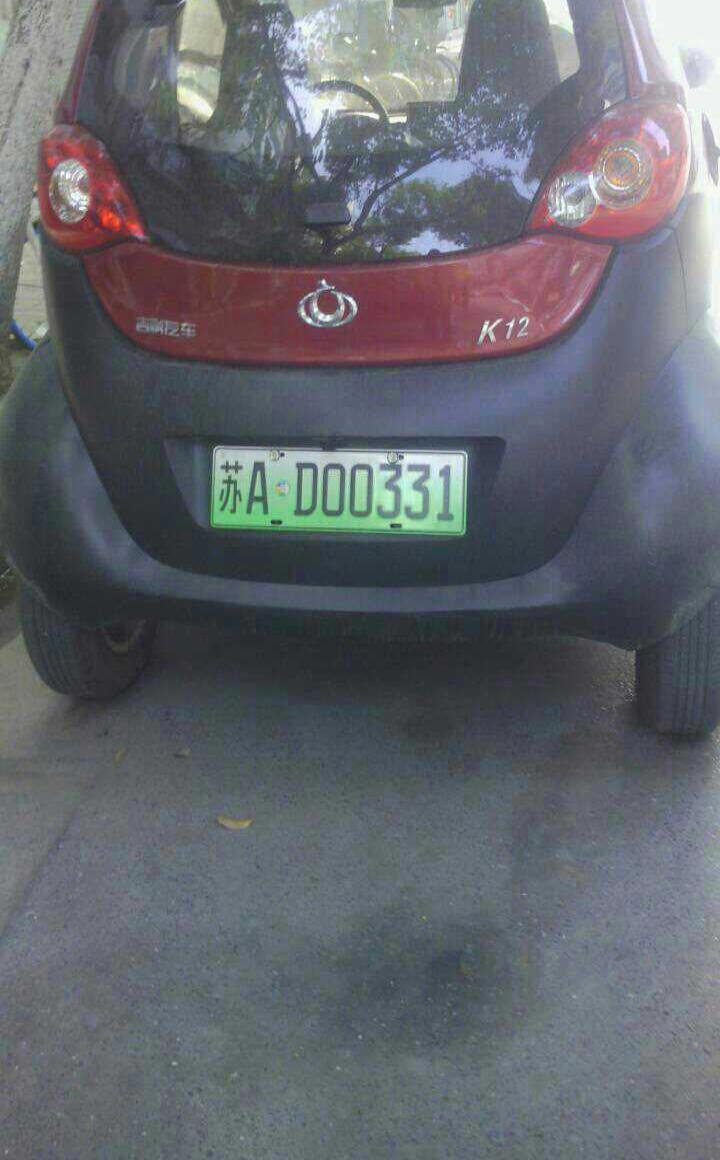car: (201, 448, 473, 547)
